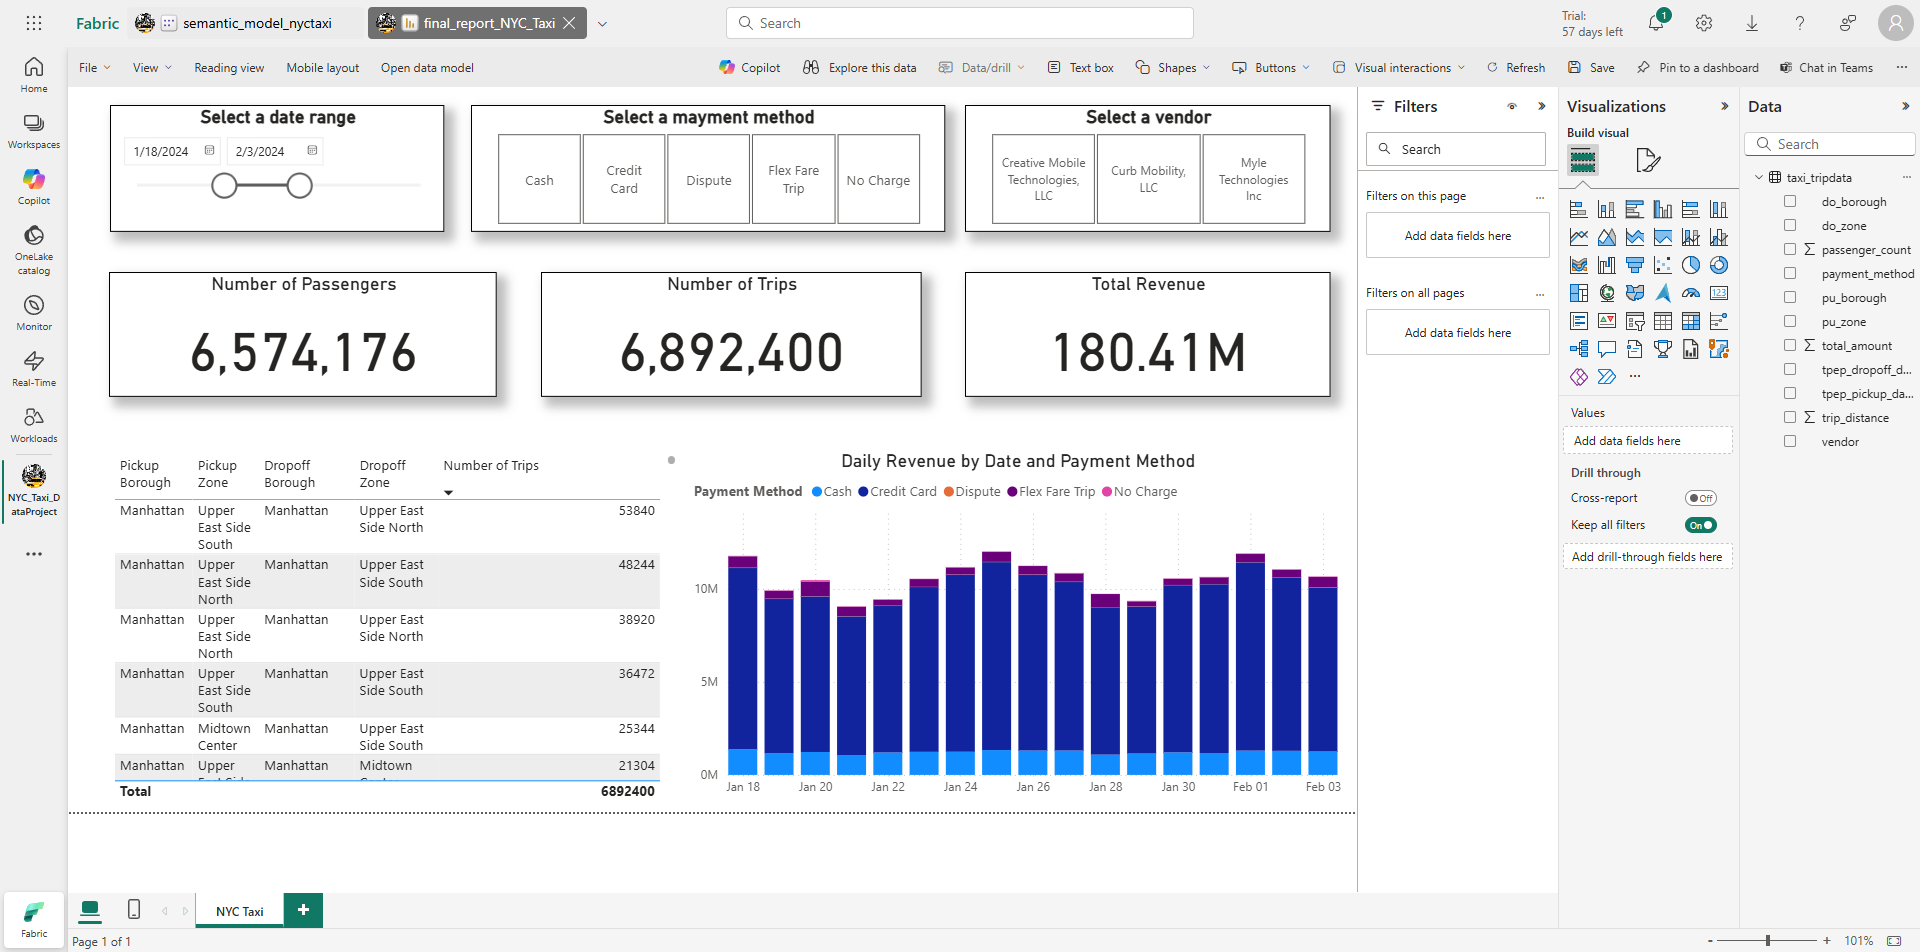

What the dashboard file says about the page in this screenshot:
{"tool":"powerbi","page":{"name":"NYC Taxi","canvas":[1280,720],"ordinal":0},"visuals":[{"type":"slicer","title":"Select a mayment method","fields":{"Values":["taxi_tripdata.payment_method"]},"box":[399.9,18,470.7,125.9],"z":0},{"type":"slicer","title":"Select a vendor","fields":{"Values":["taxi_tripdata.vendor"]},"box":[890.7,18,362.8,125.9],"z":1},{"type":"slicer","title":"Select a date range","fields":{"Values":["taxi_tripdata.tpep_pickup_datetime"]},"box":[41.3,18,332.2,125.9],"z":2},{"type":"card","title":"Number of Passengers","fields":{"Values":["CountNonNull(taxi_tripdata.passenger_count)"]},"box":[40.9,183.9,385.5,123.5],"z":3},{"type":"card","title":"Number of Trips","fields":{"Values":["CountNonNull(taxi_tripdata.trip_distance)"]},"box":[470,183.9,378.1,123.5],"z":4},{"type":"card","title":"Total Revenue","fields":{"Values":["Sum(taxi_tripdata.total_amount)"]},"box":[890.8,183.9,363.2,123.5],"z":5},{"type":"tableEx","fields":{"Values":["taxi_tripdata.pu_borough","taxi_tripdata.pu_zone","taxi_tripdata.do_borough","taxi_tripdata.do_zone","CountNonNull(taxi_tripdata.trip_distance)"]},"box":[40.9,360.4,567.5,353],"z":6},{"type":"columnChart","title":"Daily Revenue by Date and Payment Method","fields":{"Category":["taxi_tripdata.tpep_pickup_datetime"],"Y":["Sum(taxi_tripdata.total_amount)"],"Series":["taxi_tripdata.payment_method"]},"box":[616.8,360.4,653.9,353],"z":7}]}

Visuals, with their boxes on the page's 1280x720 design canvas (x1, y1, x2, y2). These are canvas units, not pixel positions in the 1920x952 screenshot, which may show the page scaled, cropped or inside an application window:
"Select a mayment method" slicer: 400 18 871 144
"Select a vendor" slicer: 891 18 1254 144
"Select a date range" slicer: 41 18 374 144
"Number of Passengers" card: 41 184 426 307
"Number of Trips" card: 470 184 848 307
"Total Revenue" card: 891 184 1254 307
tableEx - taxi_tripdata.pu_borough x taxi_tripdata.pu_zone: 41 360 608 713
"Daily Revenue by Date and Payment Method" columnChart: 617 360 1271 713
